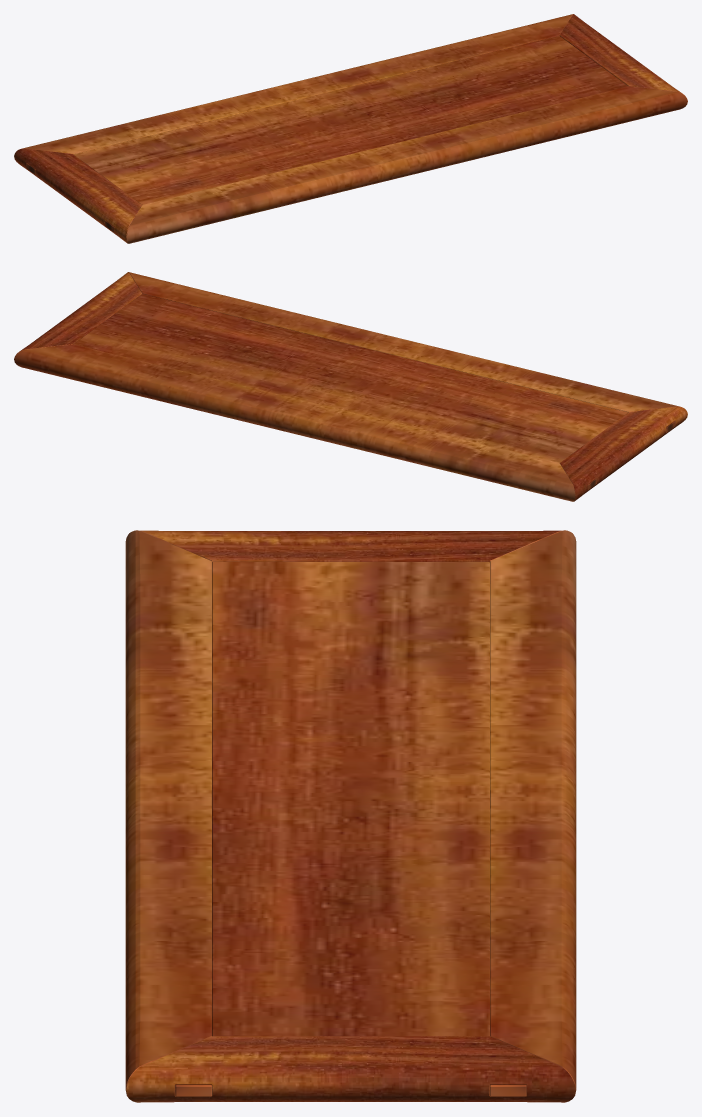
The model's file is ytsy_J_H_mianban.FBX.
The picture shows the model from 3 angles, top to bottom: view 1: azimuth 30°, elevation 25°; view 2: azimuth 150°, elevation 25°; view 3: azimuth 270°, elevation 25°; orthographic projection. The views are drawn at different scales.
Parts seen in each view (by area): view 1: ytsy_J_mianban; view 2: ytsy_J_mianban; view 3: ytsy_J_mianban.
Part boxes in pixels (box(x1,y1,x2,y2)): ytsy_J_mianban: box(14, 14, 687, 243); ytsy_J_mianban: box(14, 272, 687, 501); ytsy_J_mianban: box(125, 530, 576, 1102).
Size of the model in its own units: 105 by 3.25 by 36.5.
